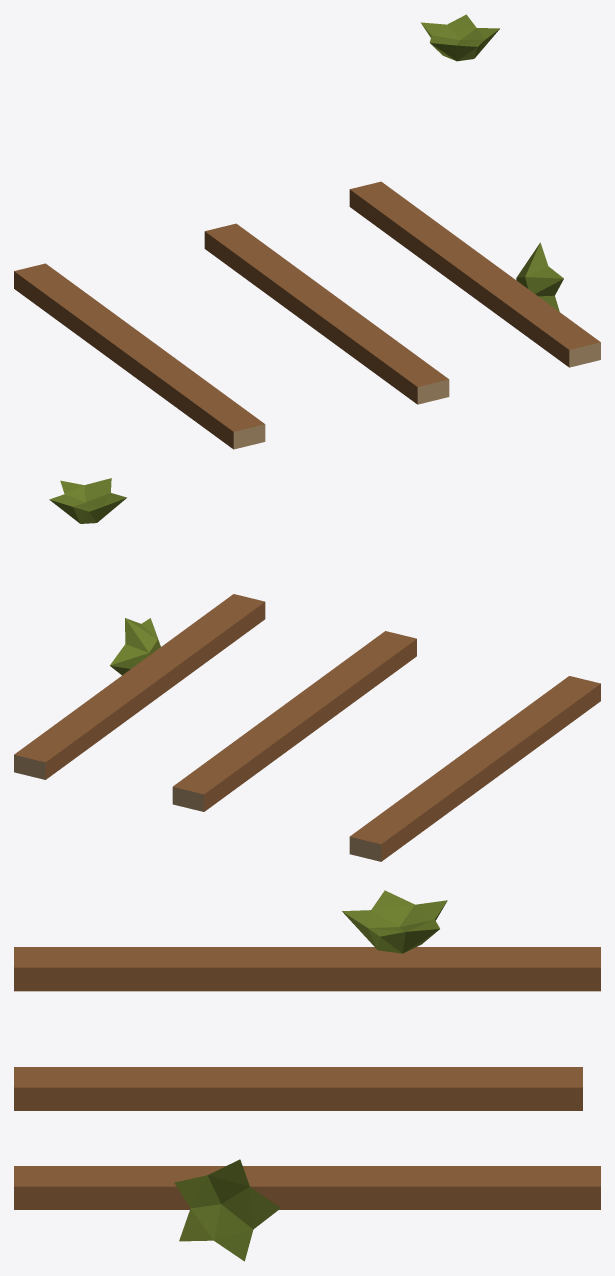
3 renders of one model, top to bottom at view 1: azimuth 30°, elevation 25°; view 2: azimuth 150°, elevation 25°; view 3: azimuth 270°, elevation 25°, orthographic. The views are drawn at different scales.
Visible parts, largest first — view 1: Box15682_brown_0, Box15968_green2_0, Box15682_brown2_0, Box15953_green2_0; view 2: Box15682_brown_0, Box15968_green2_0, Box15682_brown2_0, Box15953_green2_0; view 3: Box15682_brown_0, Box15953_green2_0, Box15968_green2_0.
Part boxes in pixels (<box>): Box15682_brown_0: <box>14,181,600,449</box>; Box15968_green2_0: <box>420,14,499,61</box>; Box15682_brown2_0: <box>233,342,600,449</box>; Box15953_green2_0: <box>516,242,563,311</box>; Box15682_brown_0: <box>14,594,600,861</box>; Box15968_green2_0: <box>49,478,126,523</box>; Box15682_brown2_0: <box>14,754,381,861</box>; Box15953_green2_0: <box>110,618,160,675</box>; Box15682_brown_0: <box>14,947,600,1209</box>; Box15953_green2_0: <box>174,1159,280,1261</box>; Box15968_green2_0: <box>342,890,447,953</box>.
Bounding box in the file's own units: 653 × 387 × 615.
